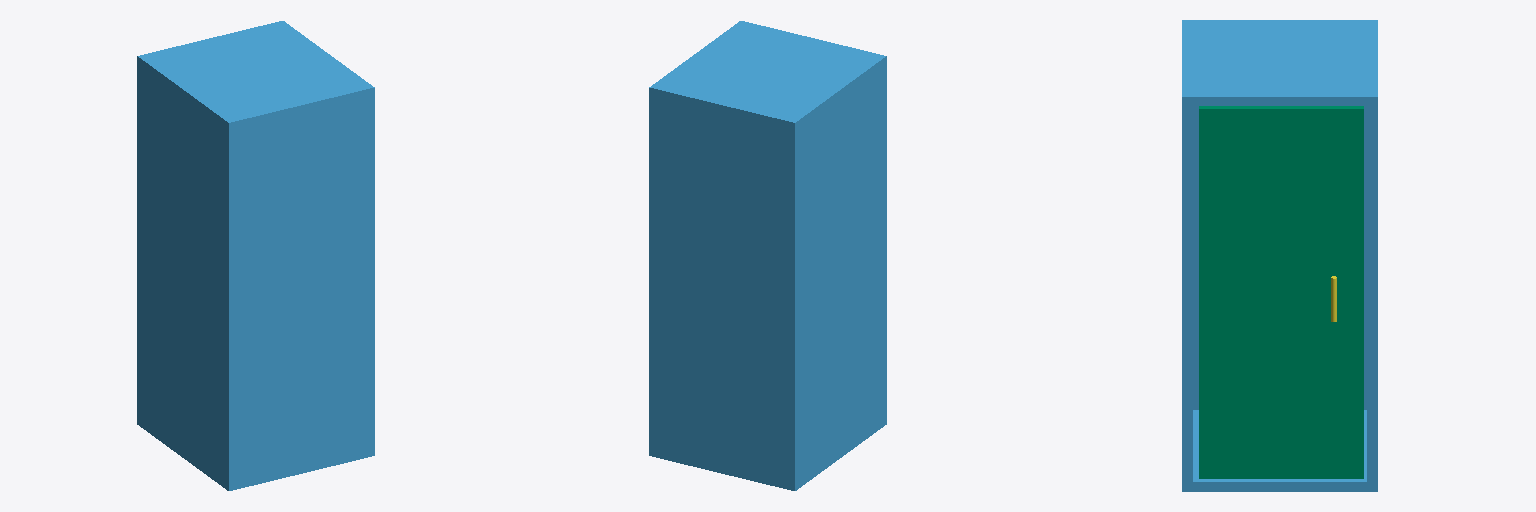
URDF robot description (my_cabinet):
<?xml version="1.0" ?>
<robot name="my_cabinet">
	<link name="world"/>
	<joint name="virtual_joint" type="fixed">
		<parent link="world"/>
		<child link="base_cabinet_link"/>
		<origin xyz="0.0 0.0 0.0" rpy="0.0 0.0 0.0"/>
	</joint>
	<link name="base_cabinet_link">
		<visual>
			<origin xyz="0.0 -0.0025 -0.35339593278668535" rpy="0.0 0.0 0.0"/>
			<geometry>
				<box size="0.3 0.3263232737653341 0.018"/>
			</geometry>
		</visual>
		<collision name="base_cabinet_link_collision_0">
			<origin xyz="0.0 -0.0025 -0.35339593278668535" rpy="0.0 0.0 0.0"/>
			<geometry>
				<box size="0.3 0.3263232737653341 0.018"/>
			</geometry>
		</collision>
		<visual>
			<origin xyz="0.0 0.15166163688266707 0.0" rpy="0.0 0.0 0.0"/>
			<geometry>
				<box size="0.3 0.018 0.7247918655733707"/>
			</geometry>
		</visual>
		<collision name="base_cabinet_link_collision_1">
			<origin xyz="0.0 0.15166163688266707 0.0" rpy="0.0 0.0 0.0"/>
			<geometry>
				<box size="0.3 0.018 0.7247918655733707"/>
			</geometry>
		</collision>
		<visual>
			<origin xyz="0.0 -0.15666163688266707 0.0" rpy="0.0 0.0 0.0"/>
			<geometry>
				<box size="0.3 0.018 0.7247918655733707"/>
			</geometry>
		</visual>
		<collision name="base_cabinet_link_collision_2">
			<origin xyz="0.0 -0.15666163688266707 0.0" rpy="0.0 0.0 0.0"/>
			<geometry>
				<box size="0.3 0.018 0.7247918655733707"/>
			</geometry>
		</collision>
		<visual>
			<origin xyz="0.0 -0.0025 0.35339593278668535" rpy="0.0 0.0 0.0"/>
			<geometry>
				<box size="0.3 0.3263232737653341 0.018"/>
			</geometry>
		</visual>
		<collision name="base_cabinet_link_collision_3">
			<origin xyz="0.0 -0.0025 0.35339593278668535" rpy="0.0 0.0 0.0"/>
			<geometry>
				<box size="0.3 0.3263232737653341 0.018"/>
			</geometry>
		</collision>
		<visual>
			<origin xyz="-0.141 -0.0025 0.0" rpy="0.0 0.0 0.0"/>
			<geometry>
				<box size="0.018 0.3263232737653341 0.7247918655733707"/>
			</geometry>
		</visual>
		<collision name="base_cabinet_link_collision_4">
			<origin xyz="-0.141 -0.0025 0.0" rpy="0.0 0.0 0.0"/>
			<geometry>
				<box size="0.018 0.3263232737653341 0.7247918655733707"/>
			</geometry>
		</collision>
		<inertial>
			<mass value="0.200000"/>
			<inertia ixx="0.010530" ixy="0.0" ixz="0.0" iyy="0.010255" iyz="0.0" izz="0.003275"/>
		</inertial>
	</link>
	<link name="door_link">
		<visual>
			<origin xyz="0.0 -0.13766163688266705 0.0"/>
			<geometry>
				<box size="0.018 0.2753232737653341 0.6787918655733707"/>
			</geometry>
		</visual>
		<collision name="door_link_collision">
			<origin xyz="0.0 -0.13766163688266705 0.0"/>
			<geometry>
				<box size="0.018 0.2753232737653341 0.6787918655733707"/>
			</geometry>
		</collision>
		<inertial>
			<mass value="0.200000"/>
			<inertia ixx="0.008943" ixy="0.0" ixz="0.0" iyy="0.007685" iyz="0.0" izz="0.001269"/>
		</inertial>
	</link>
	<joint name="door_joint" type="revolute">
		<origin xyz="0.141 -0.13766163688266705 0.0" rpy="0.000000 -0.000000 3.141593"/>
		<axis xyz="0 0 1"/>
		<parent link="base_cabinet_link"/>
		<child link="door_link"/>
		<limit effort="50" lower="-1.658062789394613" upper="0" velocity="10"/>
		<dynamics friction="3.5" damping="3.5"/>
	</joint>
	<link name="handle_link">
		<visual>
			<origin xyz="0.0 0.0 0.0" rpy="0.0 0.0 0.0"/>
			<geometry>
				<cylinder length="0.08" radius="0.005"/>
			</geometry>
		</visual>
		<collision name="handle_link_collision_0">
			<origin xyz="0.0 0.0 0.0" rpy="0.0 0.0 0.0"/>
			<geometry>
				<cylinder length="0.08" radius="0.005"/>
			</geometry>
		</collision>
		<visual>
			<origin xyz="-0.01 0.0 0.02" rpy="0.0 1.5707963267948966 0.0"/>
			<geometry>
				<cylinder length="0.02" radius="0.003"/>
			</geometry>
		</visual>
		<collision name="handle_link_collision_1">
			<origin xyz="-0.01 0.0 0.02" rpy="0.0 1.5707963267948966 0.0"/>
			<geometry>
				<cylinder length="0.01" radius="0.003"/>
			</geometry>
		</collision>
		<visual>
			<origin xyz="-0.01 0.0 -0.02" rpy="0.0 1.5707963267948966 0.0"/>
			<geometry>
				<cylinder length="0.02" radius="0.003"/>
			</geometry>
		</visual>
		<collision name="handle_link_collision_2">
			<origin xyz="-0.01 0.0 -0.02" rpy="0.0 1.5707963267948966 0.0"/>
			<geometry>
				<cylinder length="0.02" radius="0.003"/>
			</geometry>
		</collision>
		<inertial>
			<mass value="0.050000"/>
			<inertia ixx="0.000027" ixy="0.0" ixz="0.0" iyy="0.000029" iyz="0.0" izz="0.000003"/>
		</inertial>
	</link>
	<joint name="handle_joint" type="fixed">
		<origin xyz="-0.028999999999999998 -0.22532327376533412 0.0" rpy="0.000000 -0.000000 3.141593"/>
		<parent link="door_link"/>
		<child link="handle_link"/>
	</joint>
	<gazebo reference="base_cabinet_link">
		<sensor name="main_sensor" type="contact">
			<selfCollide>true</selfCollide>
			<alwaysOn>true</alwaysOn>
			<updateRate>5.0</updateRate>
			<material>Gazebo/Red</material>
			<contact>
				<collision>base_cabinet_link_collision_0_collision</collision>
				<collision>base_cabinet_link_collision_1_collision</collision>
				<collision>base_cabinet_link_collision_2_collision</collision>
				<collision>base_cabinet_link_collision_3_collision</collision>
				<collision>base_cabinet_link_collision_4_collision</collision>
			</contact>
			<plugin name="gazebo_ros_bumper_controller" filename="libgazebo_ros_bumper.so">
				<bumperTopicName>/contact</bumperTopicName>
				<frameName>world</frameName>
			</plugin>
		</sensor>
	</gazebo>
	<gazebo reference="door_link">
		<sensor name="main_sensor" type="contact">
			<selfCollide>true</selfCollide>
			<alwaysOn>true</alwaysOn>
			<updateRate>5.0</updateRate>
			<material>Gazebo/Red</material>
			<contact>
				<collision>door_link_collision_collision</collision>
			</contact>
			<plugin name="gazebo_ros_bumper_controller" filename="libgazebo_ros_bumper.so">
				<bumperTopicName>/contact_door</bumperTopicName>
				<frameName>contact_door</frameName>
			</plugin>
		</sensor>
	</gazebo>
	<gazebo reference="door_link">
		<mu>3.0</mu>
		<mu2>3.0</mu2>
		<kp>10000000</kp>
		<kd>100</kd>
	</gazebo>
</robot>

--- Facts derived from the render (not from the file) ---
The picture shows the robot from 3 angles, left to right: view 1: azimuth 30°, elevation 25°; view 2: azimuth 150°, elevation 25°; view 3: azimuth 270°, elevation 25°; orthographic projection.
Model my_cabinet with 4 links and 3 joints (1 revolute, 2 fixed), rooted at world, posed all joints at 0.
Visible links, largest first — view 1: base_cabinet_link; view 2: base_cabinet_link; view 3: door_link, base_cabinet_link.
Boxes of the visible links, x1=… form: base_cabinet_link: x1=137, y1=21, x2=374, y2=490; base_cabinet_link: x1=649, y1=21, x2=886, y2=490; door_link: x1=1199, y1=106, x2=1363, y2=478; base_cabinet_link: x1=1182, y1=20, x2=1377, y2=491.
Size in the robot's own frame: 0.325 by 0.3263 by 0.7248 metres.
Geometry: primitives only (box / cylinder / sphere), no mesh files.
